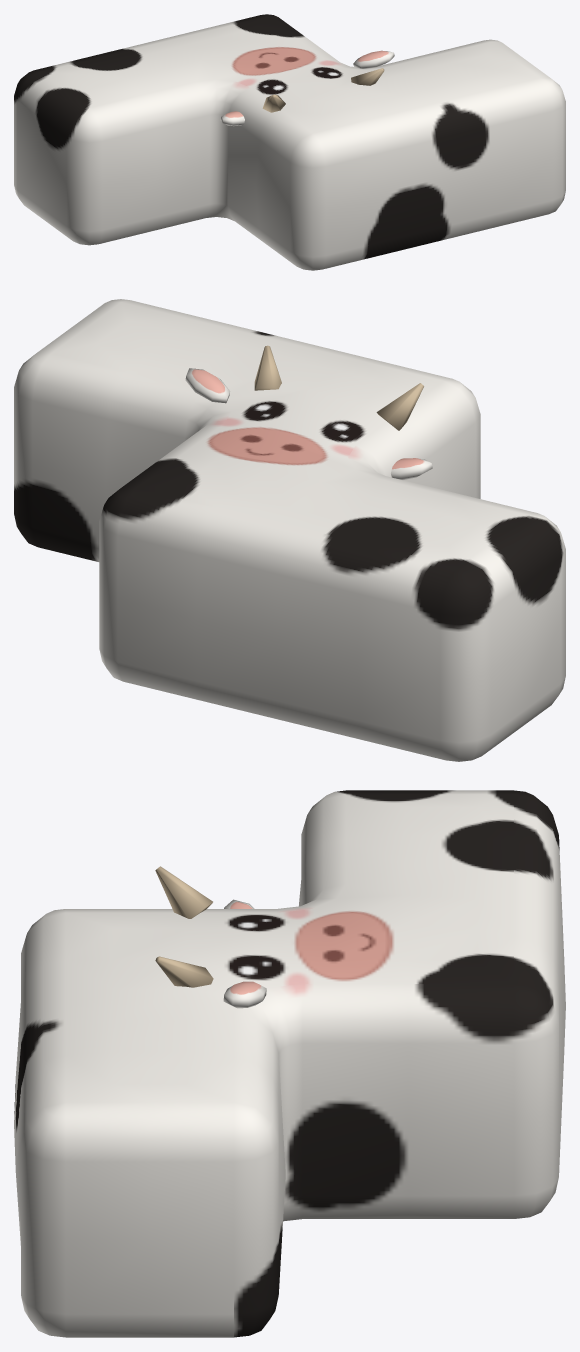
The model's file is Cow_SMirror.fbx.
3 views of the same model, one above another, from view 1: azimuth 30°, elevation 25°; view 2: azimuth 150°, elevation 25°; view 3: azimuth 270°, elevation 25° (orthographic). The views are drawn at different scales.
Visible parts, largest first — view 1: Cow_SMirror; view 2: Cow_SMirror; view 3: Cow_SMirror.
Part boxes in pixels (bbox=[...]): Cow_SMirror: bbox=[14, 14, 565, 270]; Cow_SMirror: bbox=[14, 299, 565, 761]; Cow_SMirror: bbox=[14, 790, 565, 1337].
Bounding box in the file's own units: 2.97 × 1.02 × 1.97.
Materials: 1 (1 with a texture image).
